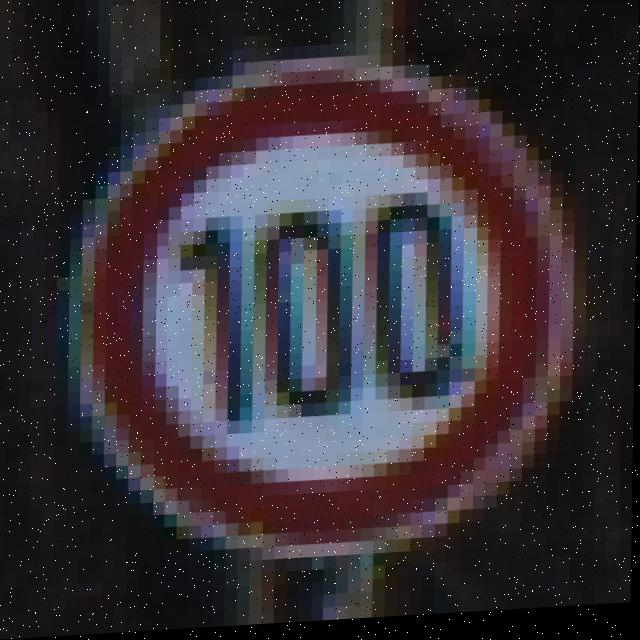speed_limit_100: (73, 62, 572, 574)
